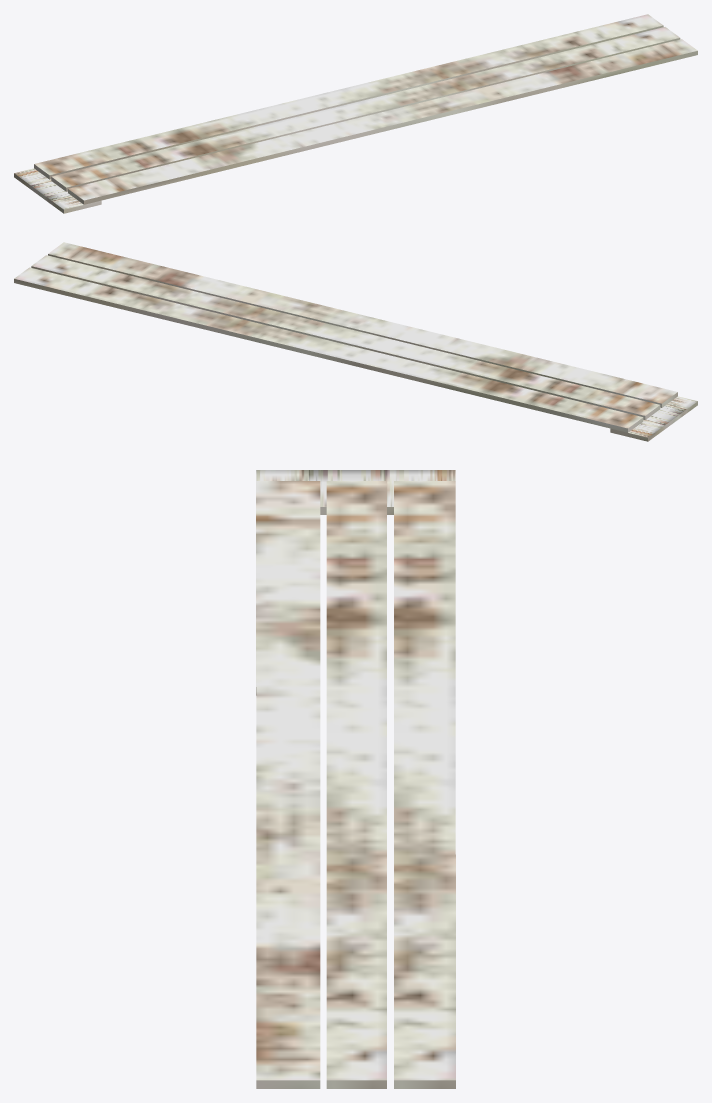
File: Wood_Straight_02.fbx
3 views of the same model, one above another, from view 1: azimuth 30°, elevation 25°; view 2: azimuth 150°, elevation 25°; view 3: azimuth 270°, elevation 25° (orthographic). The views are drawn at different scales.
Visible parts, largest first — view 1: Wood_Straight_02; view 2: Wood_Straight_02; view 3: Wood_Straight_02.
Part boxes in pixels (x1,y1,x2,y2): Wood_Straight_02: [14, 14, 697, 213]; Wood_Straight_02: [14, 242, 697, 441]; Wood_Straight_02: [256, 470, 455, 1088].
Size of the model in its own units: 1591 by 20.04 by 217.
